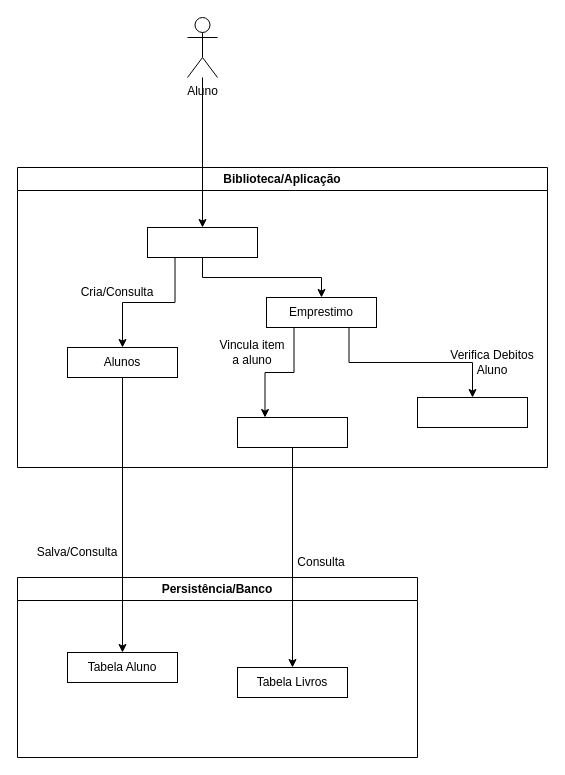
This 565x775 diagram has some shape labels left out. Each missing label, with the centre of its shape:
"Controle" goes at point 202,242.
"Débito" goes at point 472,412.
"Item" goes at point 292,432.
